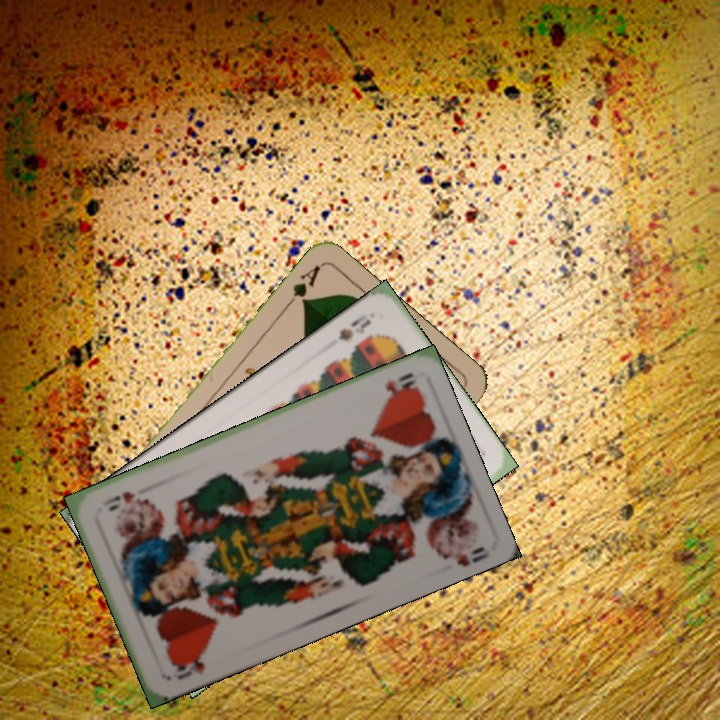GA: (281, 261, 324, 311)
HO: (168, 648, 209, 683), (380, 368, 421, 402)
S8: (334, 310, 374, 344)
